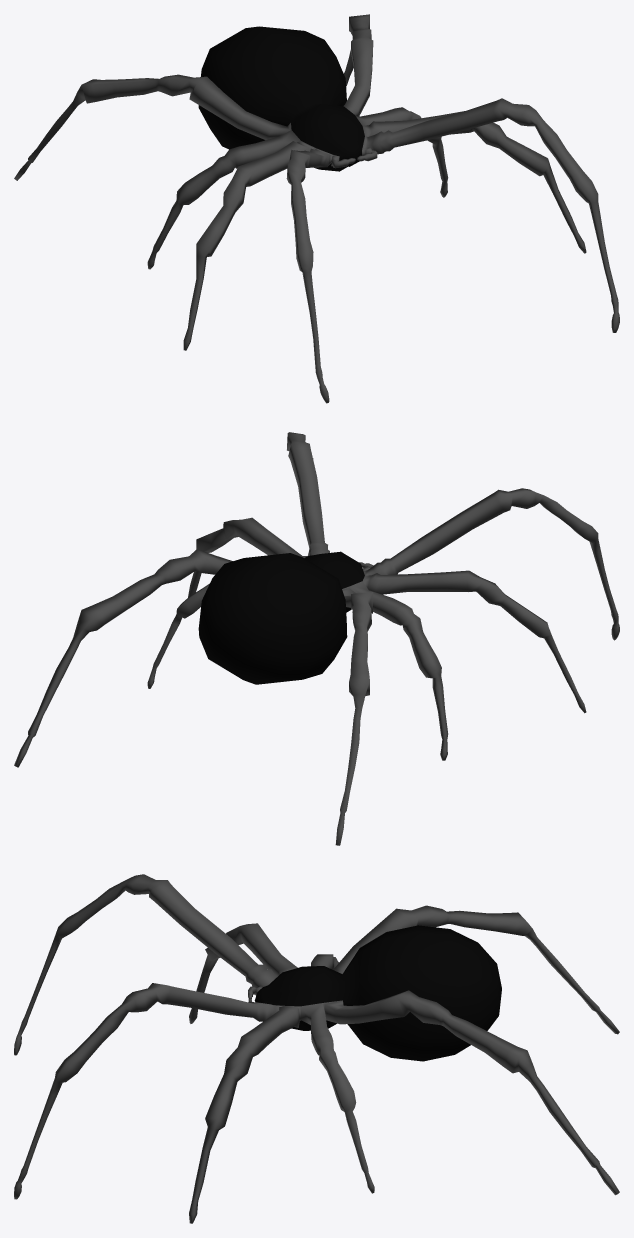
The model's file is spider.fbx.
The picture shows the model from 3 angles, top to bottom: view 1: azimuth 30°, elevation 25°; view 2: azimuth 150°, elevation 25°; view 3: azimuth 270°, elevation 25°; orthographic projection. The views are drawn at different scales.
Parts seen in each view (by area): view 1: spider; view 2: spider; view 3: spider.
Part boxes in pixels (x1,y1,x2,y2): spider: [14, 14, 619, 403]; spider: [14, 432, 619, 845]; spider: [14, 874, 619, 1223].
Size of the model in its own units: 171 by 76.94 by 217.
Materials: 1 (1 with a texture image).
